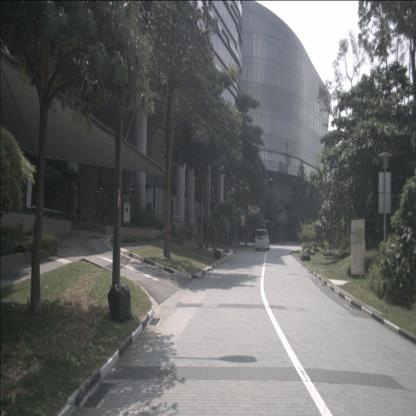human-pedestrian-adult: (198, 215, 200, 231), (194, 216, 196, 230)
vehicle-car: (255, 228, 270, 251)
